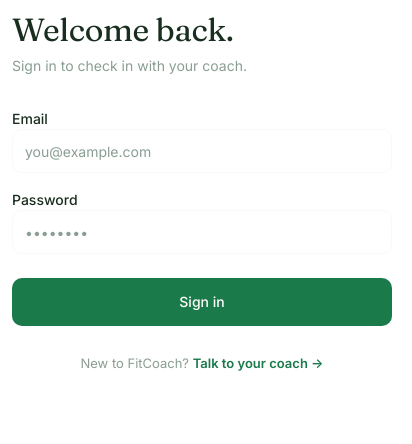
Test: <LoginForm /> › shows inline validation when submitting empty fields
Click the button "Sign in". click: coordinates (202, 302)
box: [12,278,392,326]
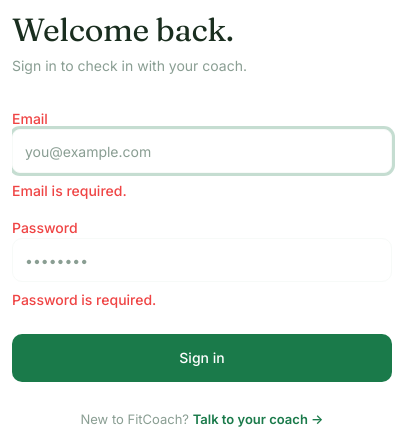
expect the text "Password is required." is shown: met, box [12,291,156,308]
